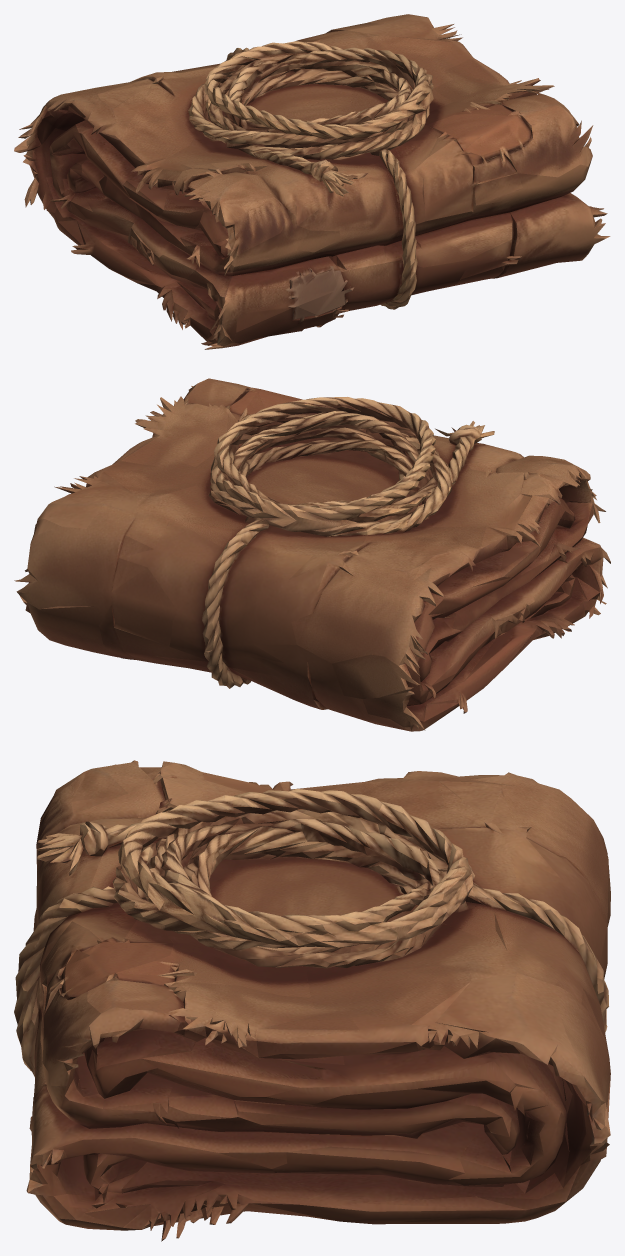
Rendered from prop-robe.glb.
3 views of the same model, one above another, from view 1: azimuth 30°, elevation 25°; view 2: azimuth 150°, elevation 25°; view 3: azimuth 270°, elevation 25° (orthographic). The views are drawn at different scales.
Visible parts, largest first — view 1: mesh_node; view 2: mesh_node; view 3: mesh_node.
Boxes of the visible parts, x1,y1,x2,y2 form: mesh_node: (14, 14, 610, 349); mesh_node: (14, 378, 610, 731); mesh_node: (14, 760, 610, 1241).
Bounding box in the file's own units: 1.91 × 0.8332 × 1.69.
1 material, 1 textured.
